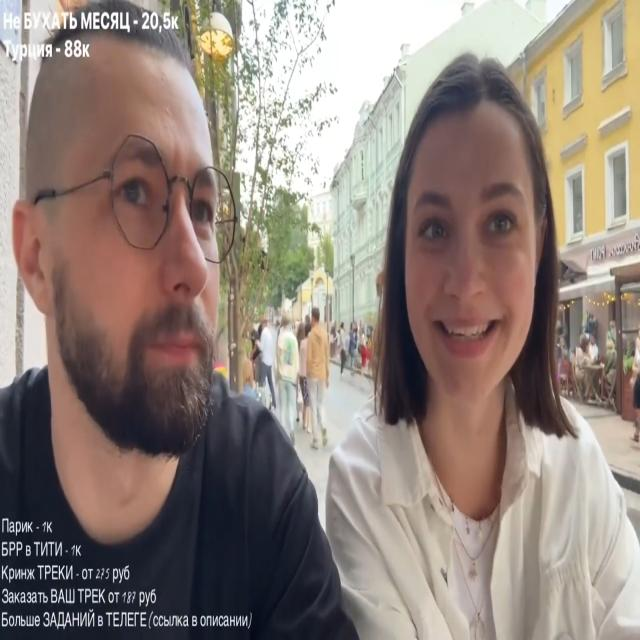Person: (0, 21, 364, 638), (275, 52, 640, 635), (300, 314, 333, 443)
